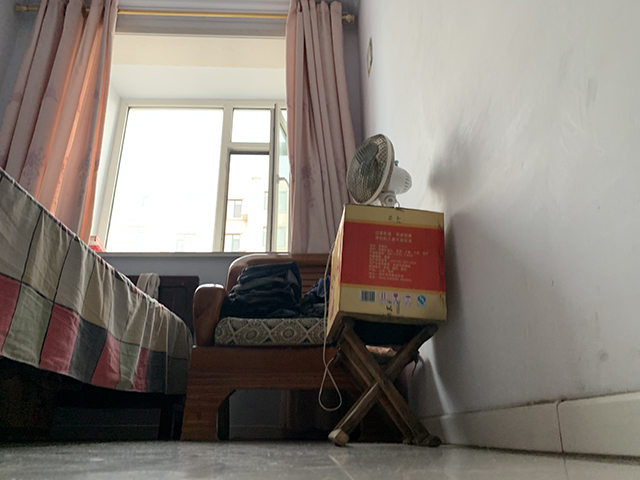bed: (1, 162, 201, 442)
curtain: (30, 4, 111, 243), (281, 1, 349, 251)
stool: (181, 250, 410, 443), (323, 316, 443, 449)
